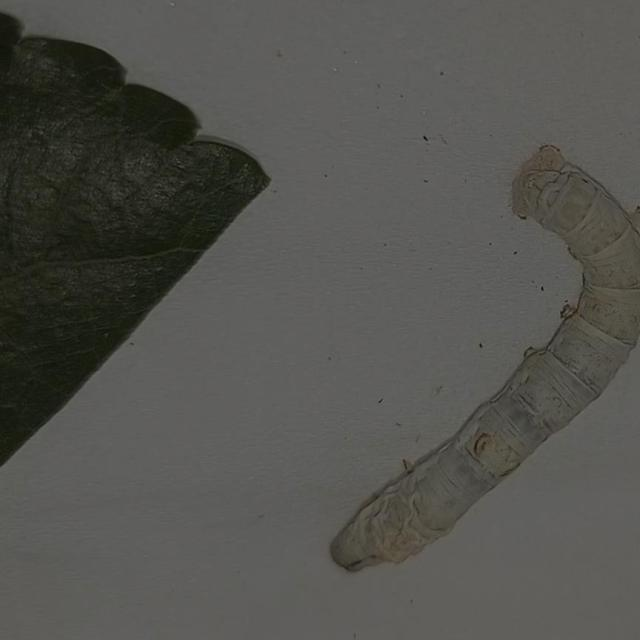Healthy: (303, 136, 640, 575)
